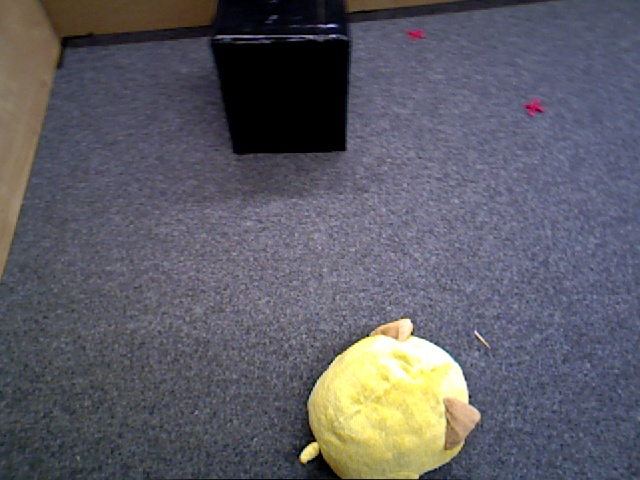grasp: (310, 327, 472, 480)
push: (212, 3, 350, 157)
